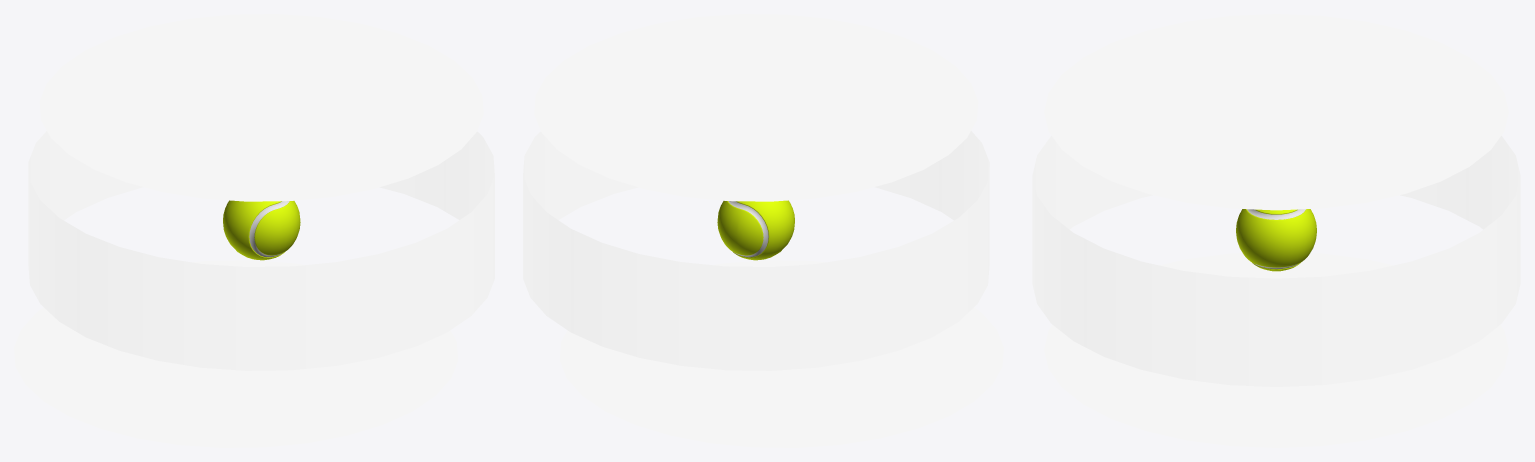
Rendered from tennisball.glb.
3 views of the same model, side by side, from view 1: azimuth 30°, elevation 25°; view 2: azimuth 150°, elevation 25°; view 3: azimuth 270°, elevation 25° (orthographic). The views are drawn at different scales.
Parts seen in each view (by area): view 1: light up, light 360, light down, Sphere; view 2: light up, light 360, light down, Sphere; view 3: light up, light 360, light down, Sphere.
Boxes of the visible parts, box(x1,y1,x2,y2) form: light up: box(39, 14, 483, 201); light 360: box(28, 131, 494, 370); light down: box(14, 260, 457, 447); Sphere: box(223, 200, 300, 260); light up: box(534, 14, 978, 201); light 360: box(523, 131, 989, 370); light down: box(560, 260, 1003, 447); Sphere: box(717, 200, 794, 260); light up: box(1044, 14, 1508, 210); light 360: box(1032, 136, 1520, 386); light down: box(1044, 253, 1508, 447); Sphere: box(1236, 209, 1316, 271).
Bounding box in the file's own units: 0.4918 × 0.2681 × 0.4732.
